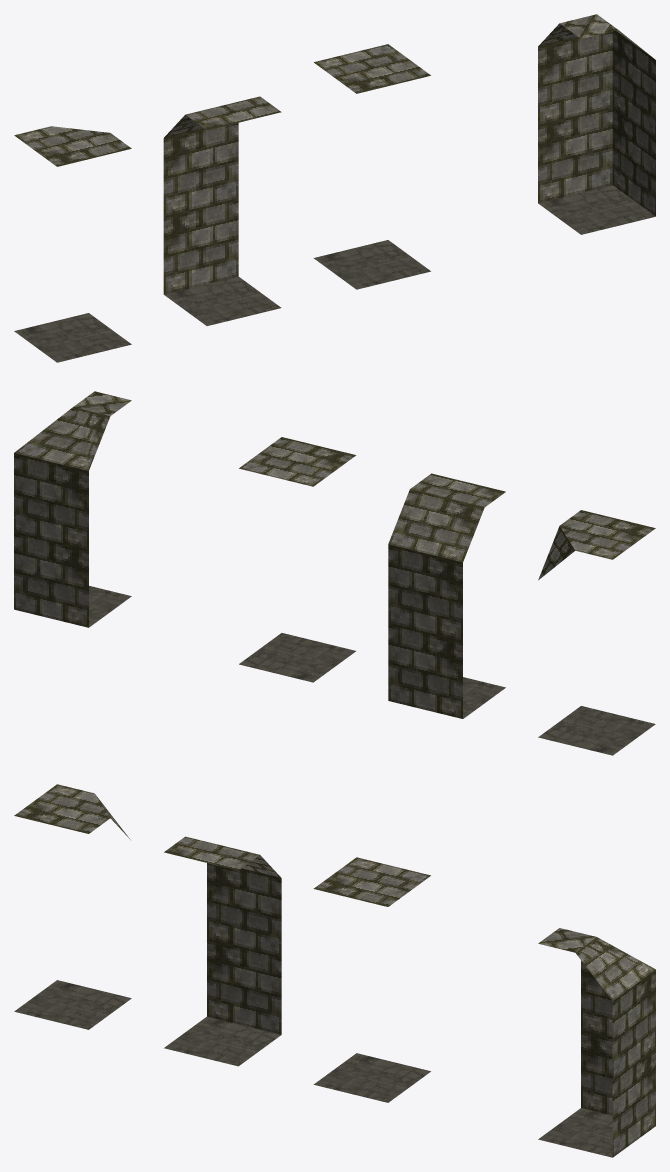
The model's file is tileset.glb.
The picture shows the model from 3 angles, top to bottom: view 1: azimuth 30°, elevation 25°; view 2: azimuth 150°, elevation 25°; view 3: azimuth 330°, elevation 25°; orthographic projection.
Visible parts, largest first — view 1: corner-in-col, wall-col, floor-col, corner-out-col; view 2: wall-col, corner-in-col, corner-out-col, floor-col; view 3: wall-col, corner-in-col, floor-col, corner-out-col.
Boxes of the visible parts, x1,y1,x2,y2 form: corner-in-col: (538, 14, 655, 234); wall-col: (163, 96, 281, 325); floor-col: (313, 44, 430, 289); corner-out-col: (14, 126, 131, 362); wall-col: (388, 473, 505, 718); corner-in-col: (14, 391, 131, 627); corner-out-col: (538, 510, 655, 755); floor-col: (239, 437, 356, 682); wall-col: (164, 836, 281, 1066); corner-in-col: (538, 928, 655, 1157); floor-col: (313, 857, 430, 1102); corner-out-col: (14, 784, 131, 1029).
Size of the model in its own units: 8 by 2.5 by 1.
1 material, 1 textured.
